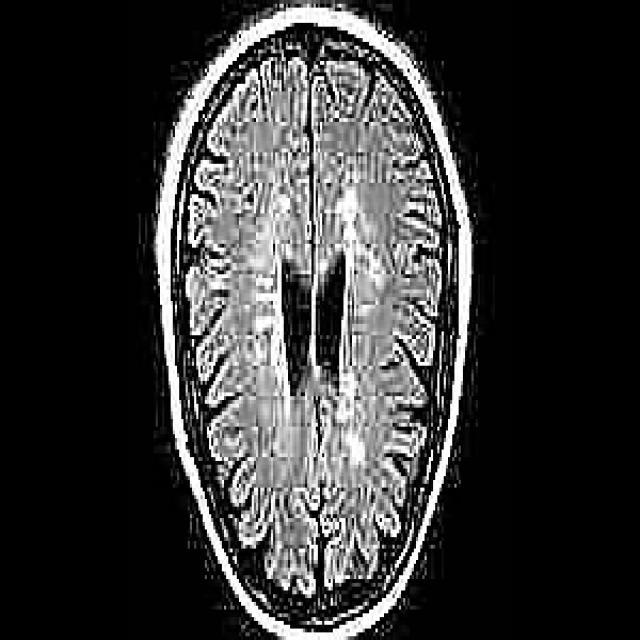notumor: (156, 8, 469, 636)
